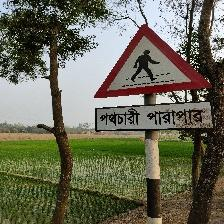Pedestrian-crossing: (92, 23, 214, 134)
